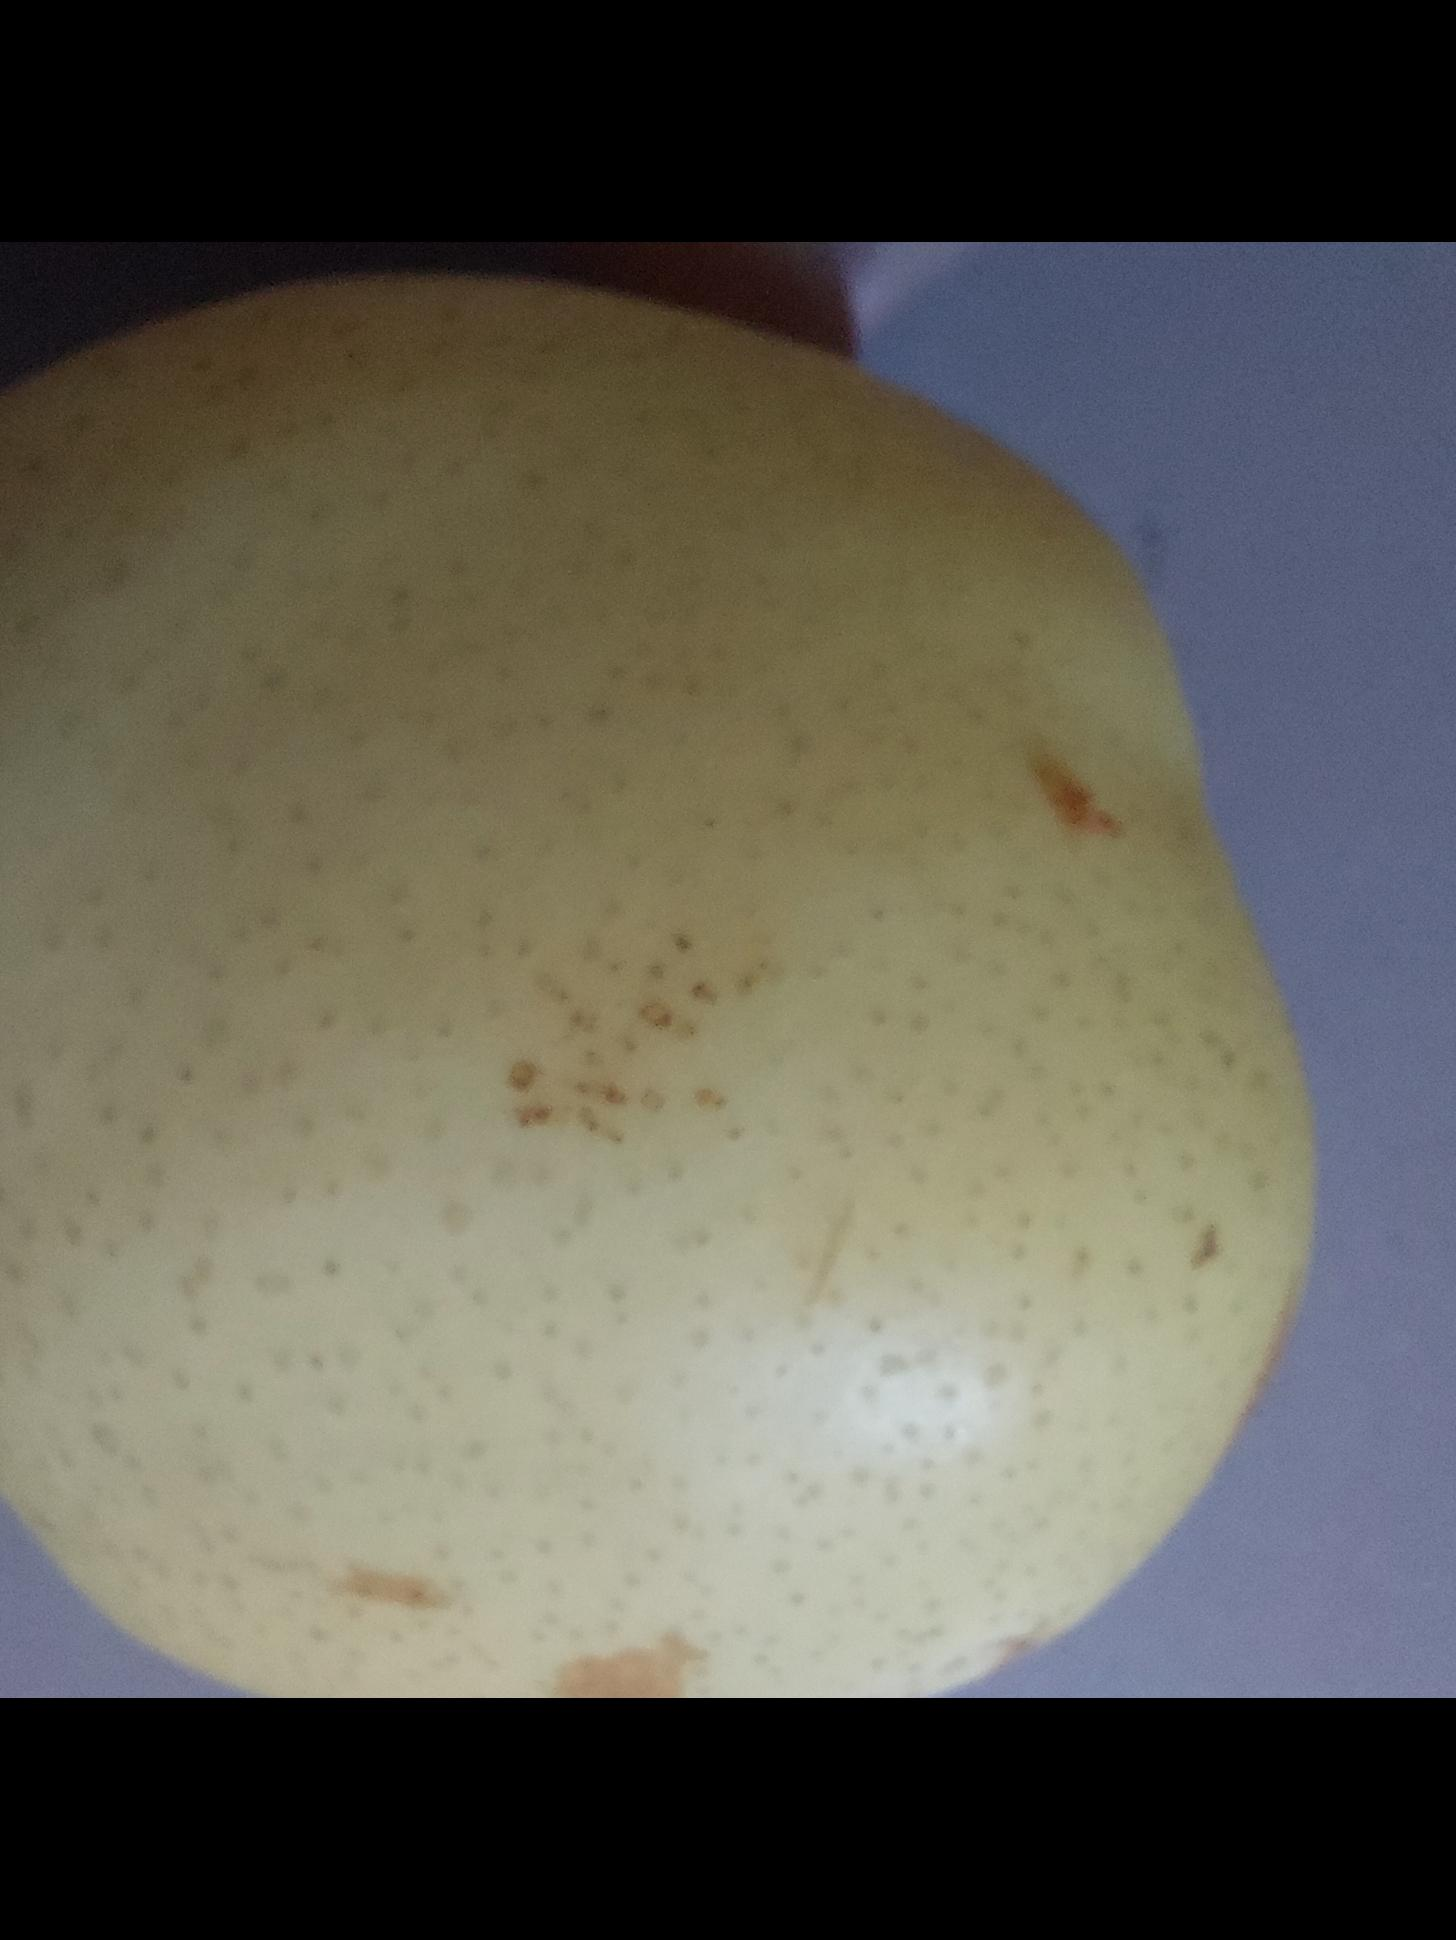Good Pear: (0, 273, 1313, 1698)
